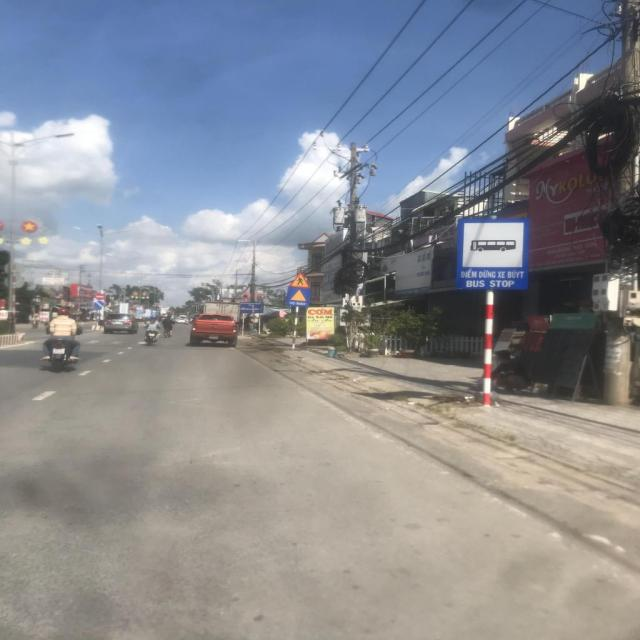cam_xe_di_nguoc_chieu: (95, 292, 106, 300)
cho: (286, 286, 312, 307)
chu_y_nguoi_di_bo_cat_ngang: (289, 270, 311, 288)
huong_phai_di_vuot_chuong_ngai_vat_phai: (94, 300, 104, 308)
khac: (456, 218, 530, 291), (240, 302, 264, 313)
